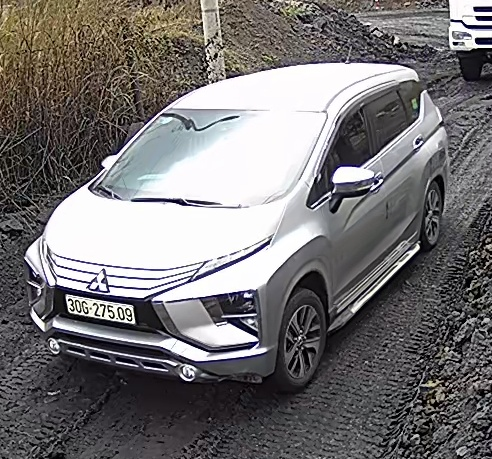vehicle plate: (62, 291, 141, 324)
